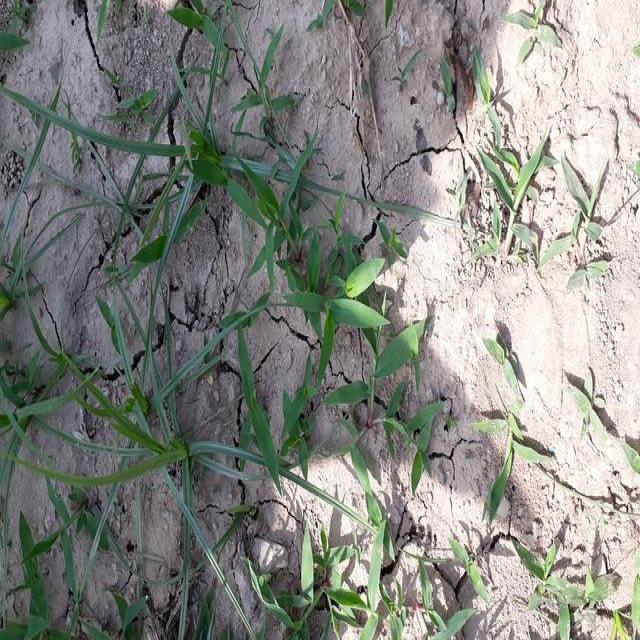weed: (0, 40, 447, 640), (8, 284, 304, 640), (60, 71, 334, 256), (289, 273, 402, 640), (468, 54, 619, 287), (510, 553, 628, 640), (487, 399, 540, 510)
